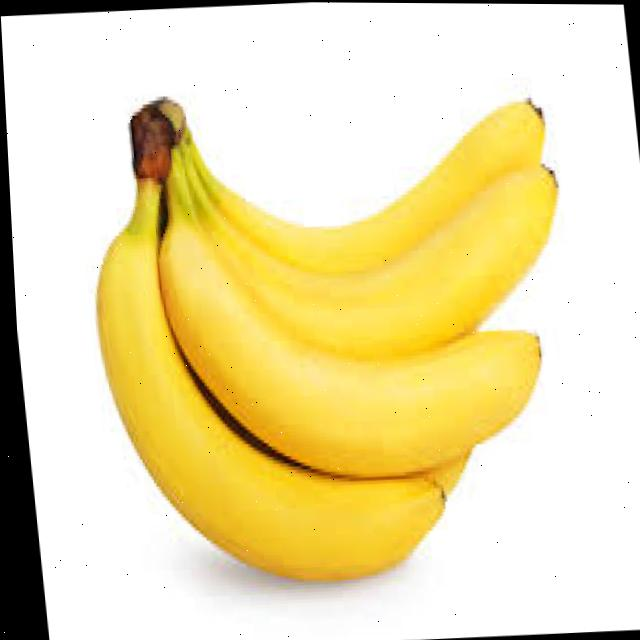Banana: (93, 180, 456, 579), (156, 159, 533, 473), (179, 148, 551, 353), (183, 101, 541, 271)
